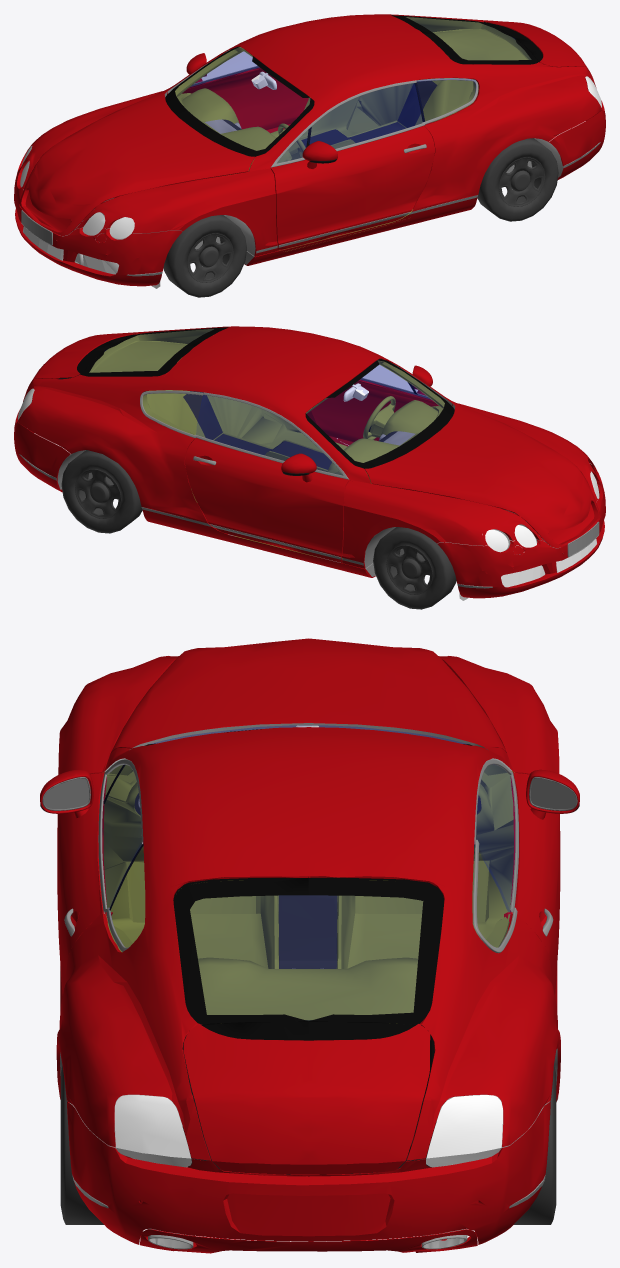
The model's file is araba2rev2.fbx.
The picture shows the model from 3 angles, top to bottom: view 1: azimuth 30°, elevation 25°; view 2: azimuth 150°, elevation 25°; view 3: azimuth 270°, elevation 25°; orthographic projection. The views are drawn at different scales.
Visible parts, largest first — view 1: Plane03, Shape022, Shape06, Object040, Object053, Object051, Object046, Object02, Box48, Rectangle01, Shape02; view 2: Plane03, Object051, Shape06, Object054, Object055, Shape022, Object046, Object02, Box50, Box1040, Rectangle01, Shape02; view 3: Plane03, Shape06, Object046, Object051, Shape022, Object052, Object053, Box1040, Box48, Object055, Circle06, Shape02.
Part boxes in pixels (bbox=[...]): Plane03: bbox=[14, 14, 605, 288]; Shape022: bbox=[270, 80, 434, 250]; Shape06: bbox=[175, 17, 531, 251]; Object040: bbox=[163, 215, 246, 297]; Object053: bbox=[477, 138, 558, 221]; Object051: bbox=[182, 52, 308, 133]; Object046: bbox=[484, 21, 592, 83]; Object02: bbox=[20, 146, 134, 239]; Box48: bbox=[302, 141, 337, 168]; Rectangle01: bbox=[21, 210, 52, 245]; Shape02: bbox=[416, 78, 478, 124]; Plane03: bbox=[14, 326, 605, 600]; Object051: bbox=[185, 392, 349, 562]; Shape06: bbox=[89, 329, 452, 558]; Object054: bbox=[373, 527, 456, 609]; Object055: bbox=[61, 450, 142, 533]; Shape022: bbox=[311, 365, 438, 445]; Object046: bbox=[26, 333, 135, 394]; Object02: bbox=[482, 471, 599, 552]; Box50: bbox=[363, 396, 395, 439]; Box1040: bbox=[281, 453, 316, 482]; Rectangle01: bbox=[567, 521, 599, 557]; Shape02: bbox=[140, 390, 203, 438]; Plane03: bbox=[56, 638, 560, 1253]; Shape06: bbox=[103, 764, 514, 1023]; Object046: bbox=[183, 1022, 430, 1174]; Object051: bbox=[474, 759, 560, 1010]; Shape022: bbox=[57, 759, 143, 1010]; Object052: bbox=[114, 1095, 502, 1167]; Object053: bbox=[60, 1065, 103, 1224]; Box1040: bbox=[526, 769, 579, 819]; Box48: bbox=[40, 769, 93, 818]; Object055: bbox=[514, 1064, 556, 1224]; Circle06: bbox=[148, 1228, 467, 1249]; Shape02: bbox=[106, 839, 517, 953].
Bounding box in the file's own units: 188 × 53.22 × 80.67.
